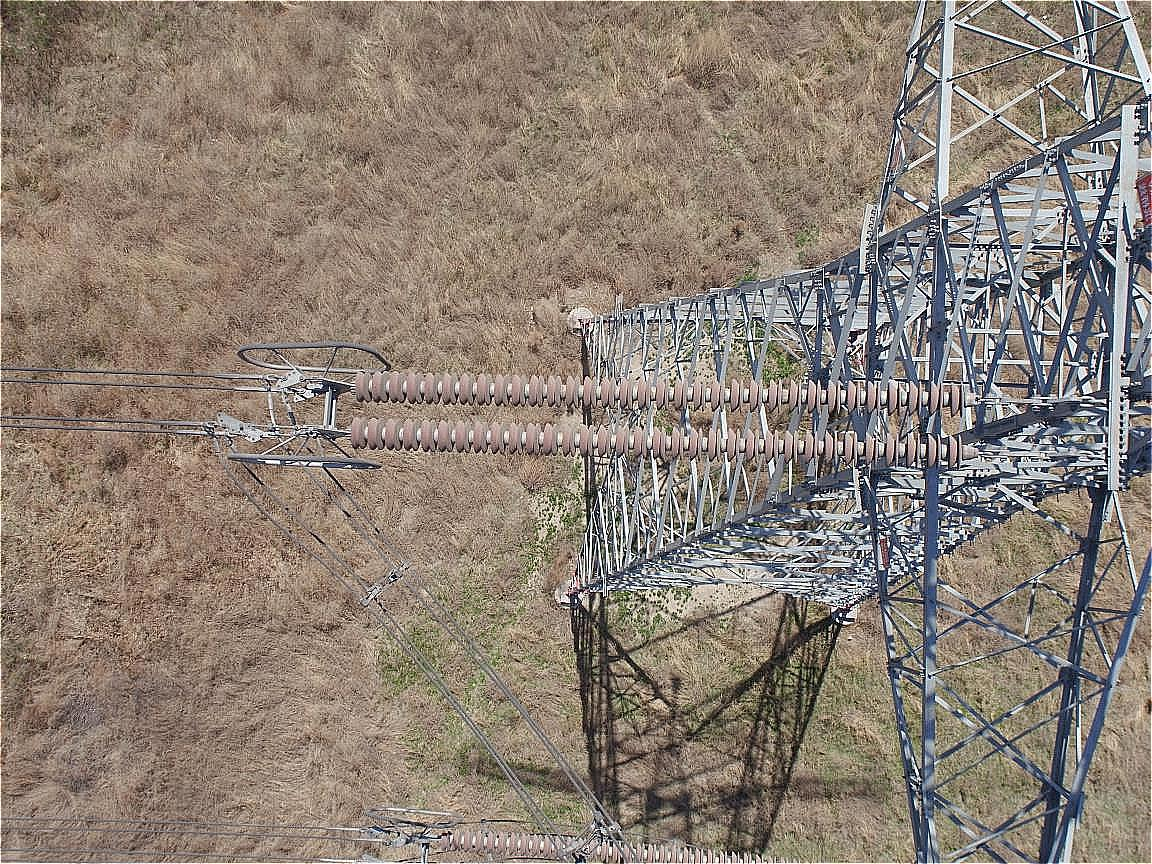insultor2: (349, 373, 965, 471)
